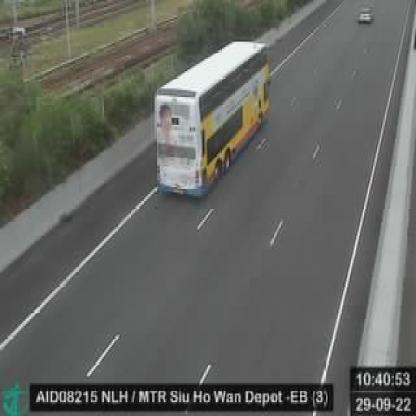Bus: (154, 37, 274, 204)
Car: (352, 2, 373, 24)
